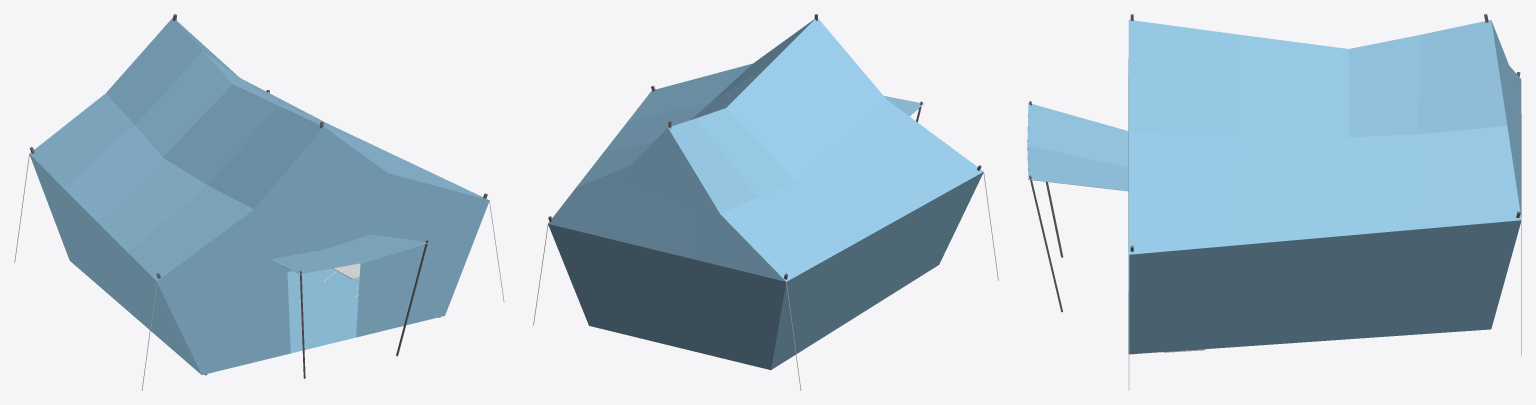
File: sanitätszelt_05.fbx
3 views of the same model, side by side, from view 1: azimuth 30°, elevation 25°; view 2: azimuth 150°, elevation 25°; view 3: azimuth 270°, elevation 25° (orthographic). The views are drawn at different scales.
Parts seen in each view (by area): view 1: Loft, Würfel_8_4, Deckfläche_2, vordach; view 2: Loft, Würfel_8_4, Deckfläche_1; view 3: Loft, Würfel_8_4, vordach, Deckfläche_1.
Boxes of the visible parts, x1,y1,x2,y2 form: Loft: (29,17,488,281); Würfel_8_4: (29,154,489,374); Deckfläche_2: (157,127,488,281); vordach: (269,234,429,274); Loft: (548,18,983,281); Würfel_8_4: (548,172,983,369); Deckfläche_1: (548,128,785,281); Loft: (1128,20,1521,254); Würfel_8_4: (1128,60,1520,354); vordach: (1027,103,1128,191); Deckfläche_1: (1491,20,1521,218).
Size of the model in its own units: 835 by 494 by 817.
